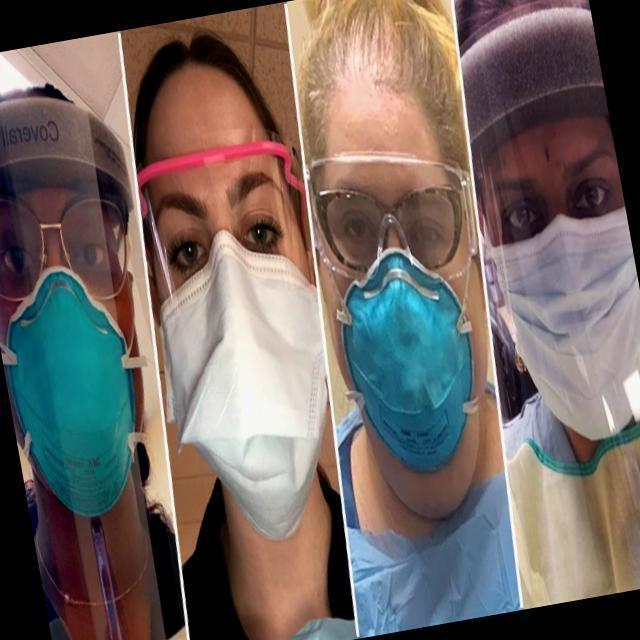mask: (174, 267, 320, 485), (487, 236, 640, 428), (336, 264, 464, 480), (10, 302, 132, 492)
no_gloves: (464, 1, 631, 141), (294, 0, 446, 117), (0, 75, 148, 172), (136, 28, 273, 116)
